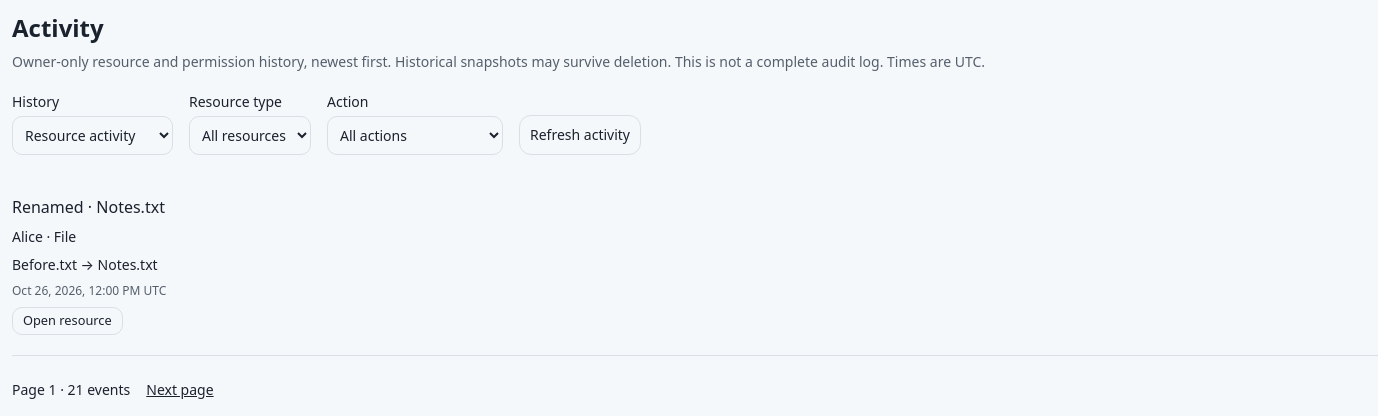
Test: clears owner history after a fresh authorization denial
Expected: the heading "Renamed · Notes.txt" is shown, top-left (12, 196), bottom-right (165, 218)
Click the button "Refresh activity" at (580, 135), box top-left (519, 115), bottom-right (641, 155)
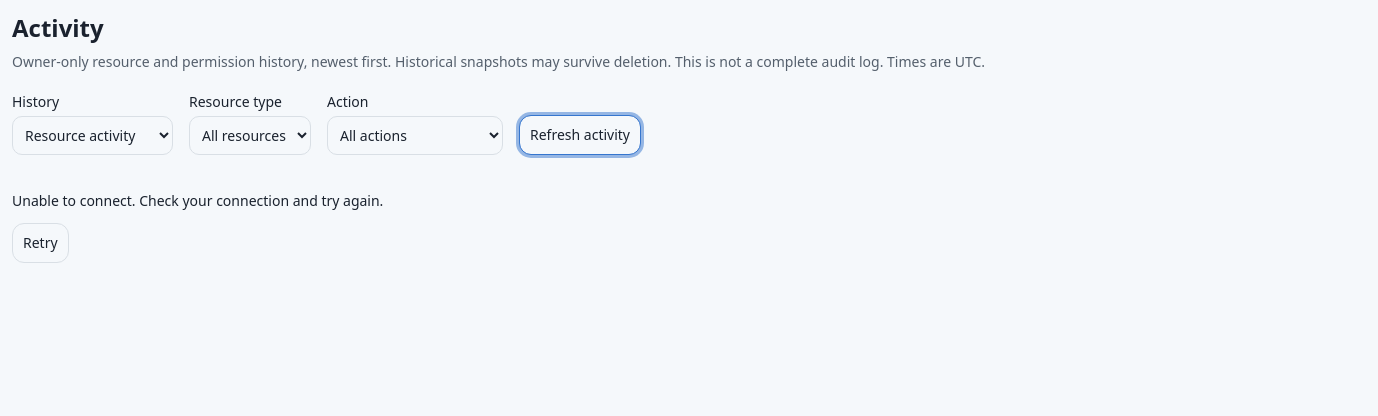
Result: the message "Unable to connect. Check your connection and try again. Retry" is shown at top-left (12, 191), bottom-right (383, 263)
Result: the heading "Renamed · Notes.txt" is gone
